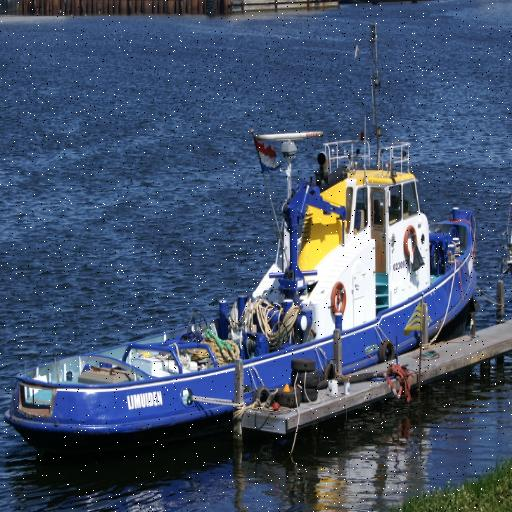tugboat: (1, 128, 483, 471)
